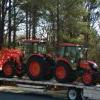Tractor: (28, 33, 100, 86)
